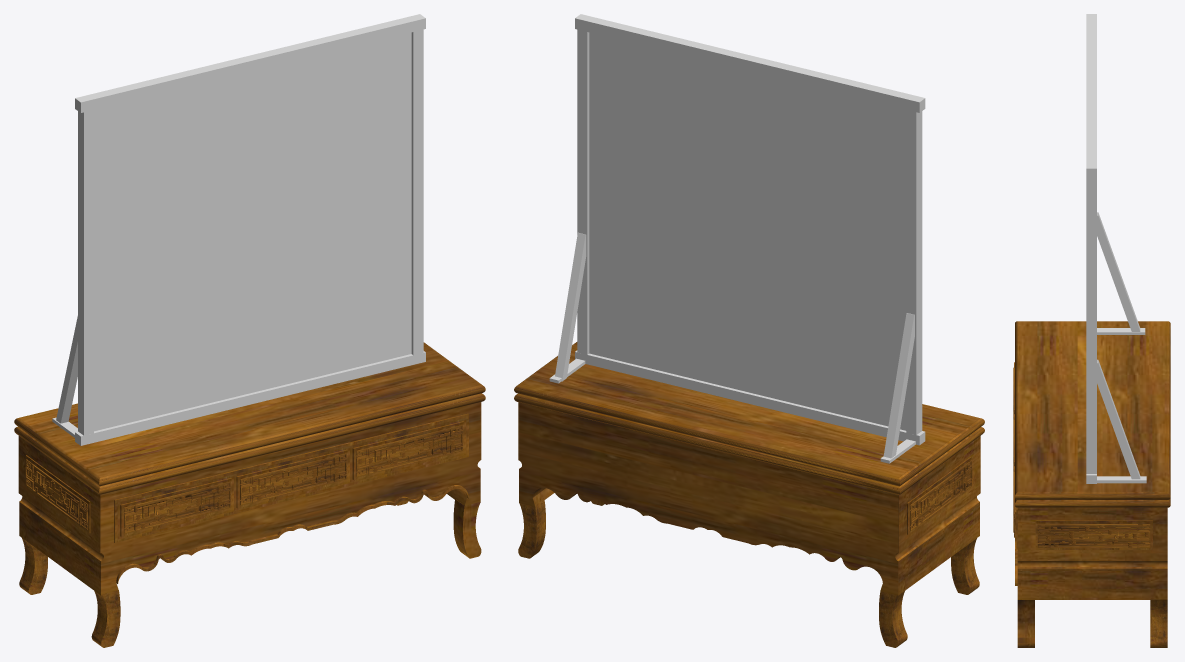
The model's file is XiTai.fbx.
3 renders of one model, left to right at view 1: azimuth 30°, elevation 25°; view 2: azimuth 150°, elevation 25°; view 3: azimuth 270°, elevation 25°, orthographic. The views are drawn at different scales.
Visible parts, largest first — view 1: Cube, Group_107, Cube.003; view 2: Cube, Group_107, Cube.003; view 3: Group_107, Cube.003.
Part boxes in pixels (x1,y1,x2,y2): Cube: [94, 32, 411, 431]; Group_107: [14, 342, 485, 647]; Cube.003: [52, 14, 425, 445]; Cube: [589, 32, 906, 430]; Group_107: [514, 342, 984, 647]; Cube.003: [549, 14, 925, 463]; Group_107: [1013, 321, 1170, 647]; Cube.003: [1086, 14, 1146, 483].
Size of the model in its own units: 142 by 181 by 54.54.
